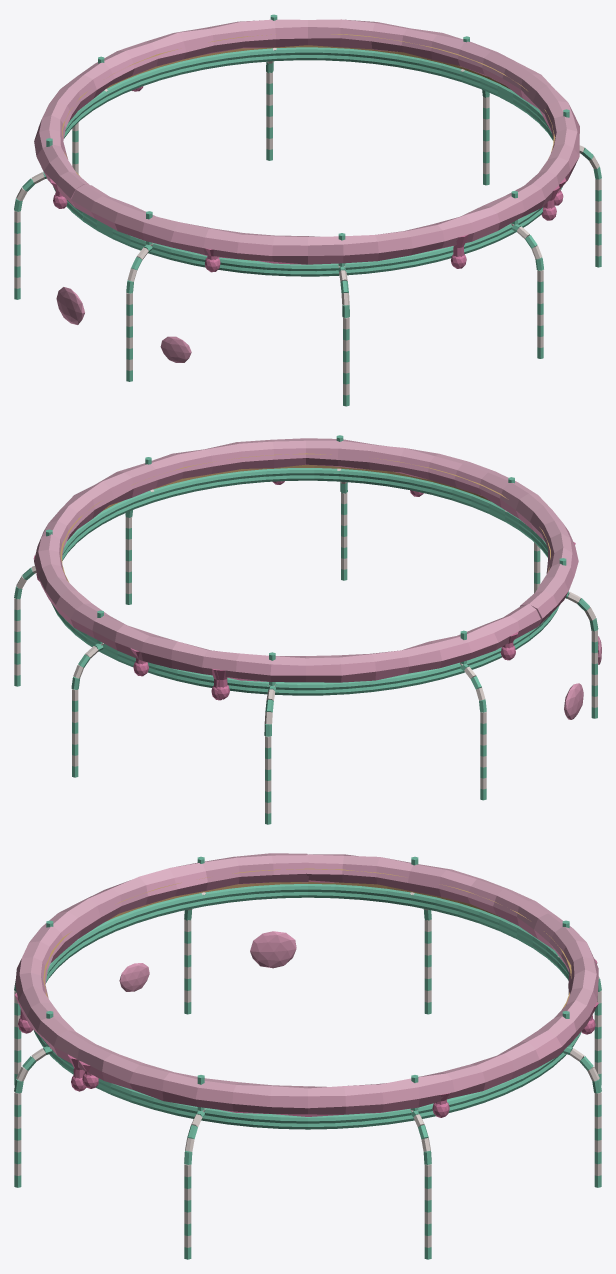
The model's file is goo_jar_trim_2_mid@candy.fbx.
3 views of the same model, one above another, from view 1: azimuth 30°, elevation 25°; view 2: azimuth 150°, elevation 25°; view 3: azimuth 270°, elevation 25° (orthographic). The views are drawn at different scales.
Parts seen in each view (by area): view 1: goo_jar_trim_2_mid; view 2: goo_jar_trim_2_mid; view 3: goo_jar_trim_2_mid.
Part boxes in pixels (x1,y1,x2,y2): goo_jar_trim_2_mid: (14,14,601,406); goo_jar_trim_2_mid: (14,435,601,824); goo_jar_trim_2_mid: (14,853,601,1259).
Bounding box in the file's own units: 53.09 × 16.05 × 50.91.
